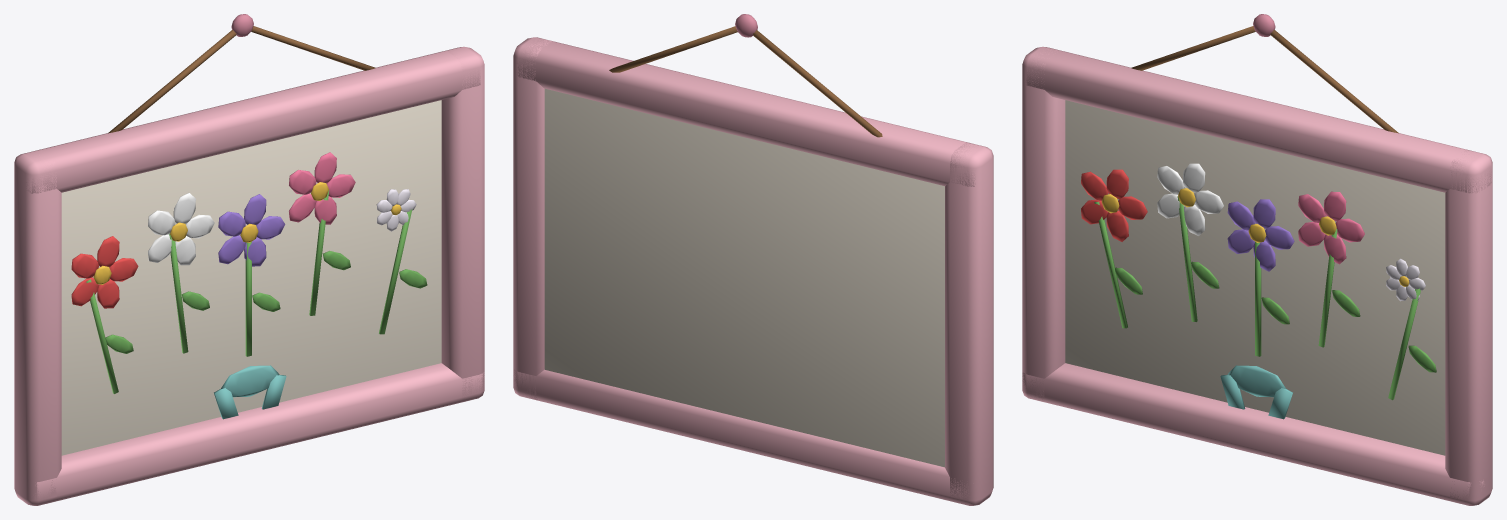
The model's file is flower-word-frame.glb.
3 views of the same model, side by side, from view 1: azimuth 30°, elevation 25°; view 2: azimuth 150°, elevation 25°; view 3: azimuth 330°, elevation 25° (orthographic). The views are drawn at different scales.
Visible parts, largest first — view 1: frame; view 2: frame; view 3: frame.
Boxes of the visible parts, x1=… form: frame: x1=14, y1=14, x2=484, y2=505; frame: x1=513, y1=14, x2=993, y2=505; frame: x1=1022, y1=14, x2=1492, y2=505.
Bounding box in the file's own units: 0.78 × 0.698 × 0.062.
